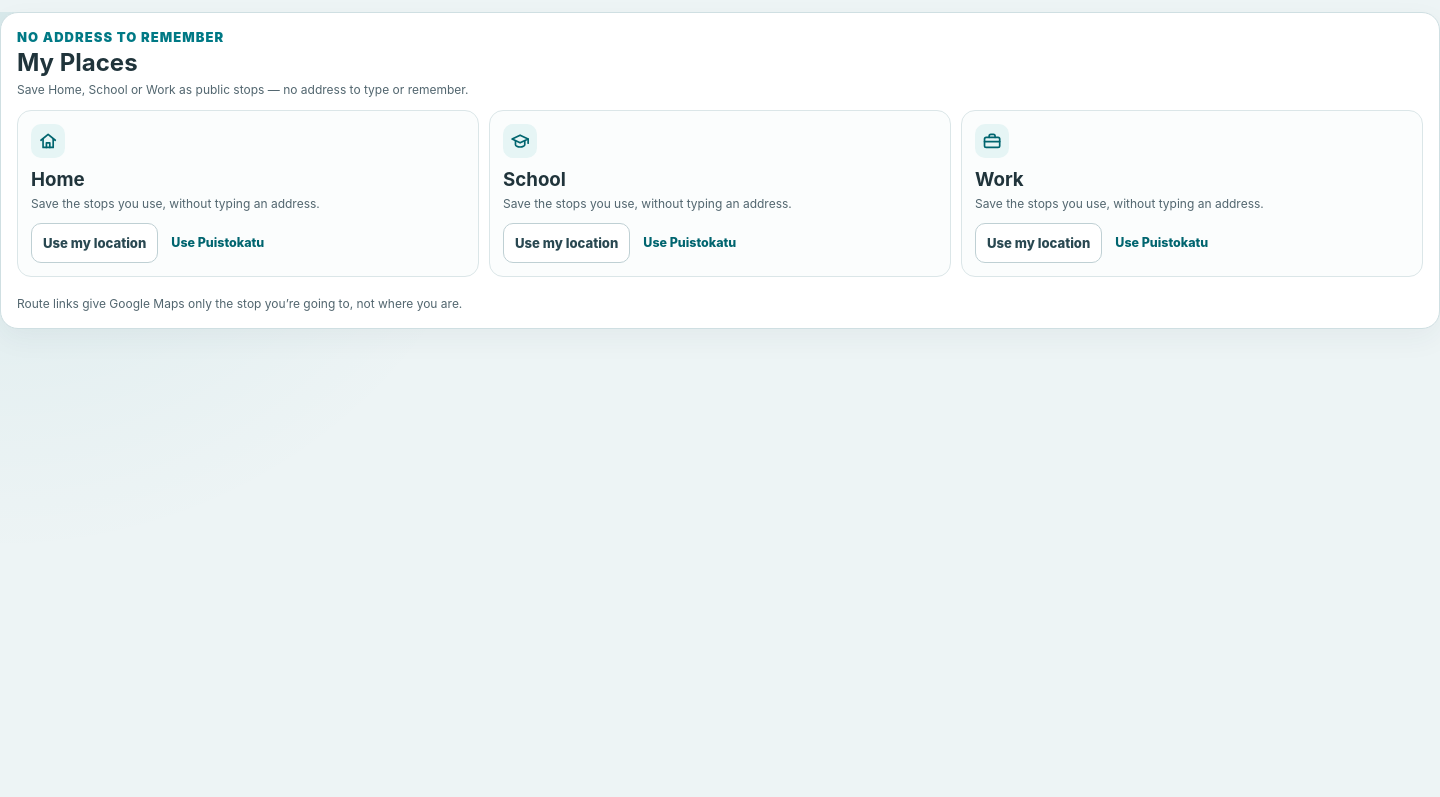
starts each place's setup with its own, unticked confirmation
Click the button with aria-label "Use Puistokatu for Home". click: click(218, 243)
box: [165,223,270,263]
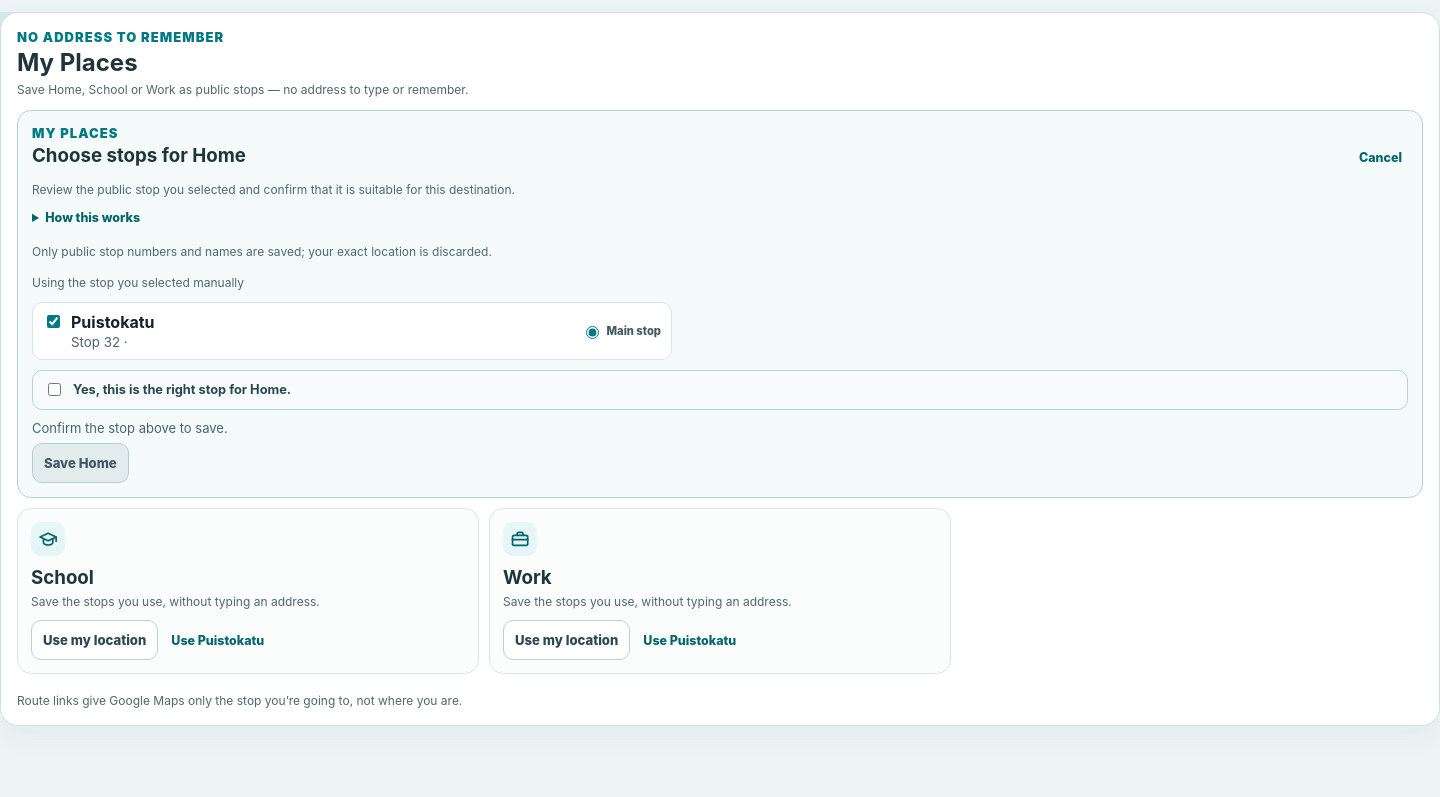
Click the checkbox labelled "Yes, this is the right stop for Home.". click: click(54, 389)
box: [48,383,61,396]
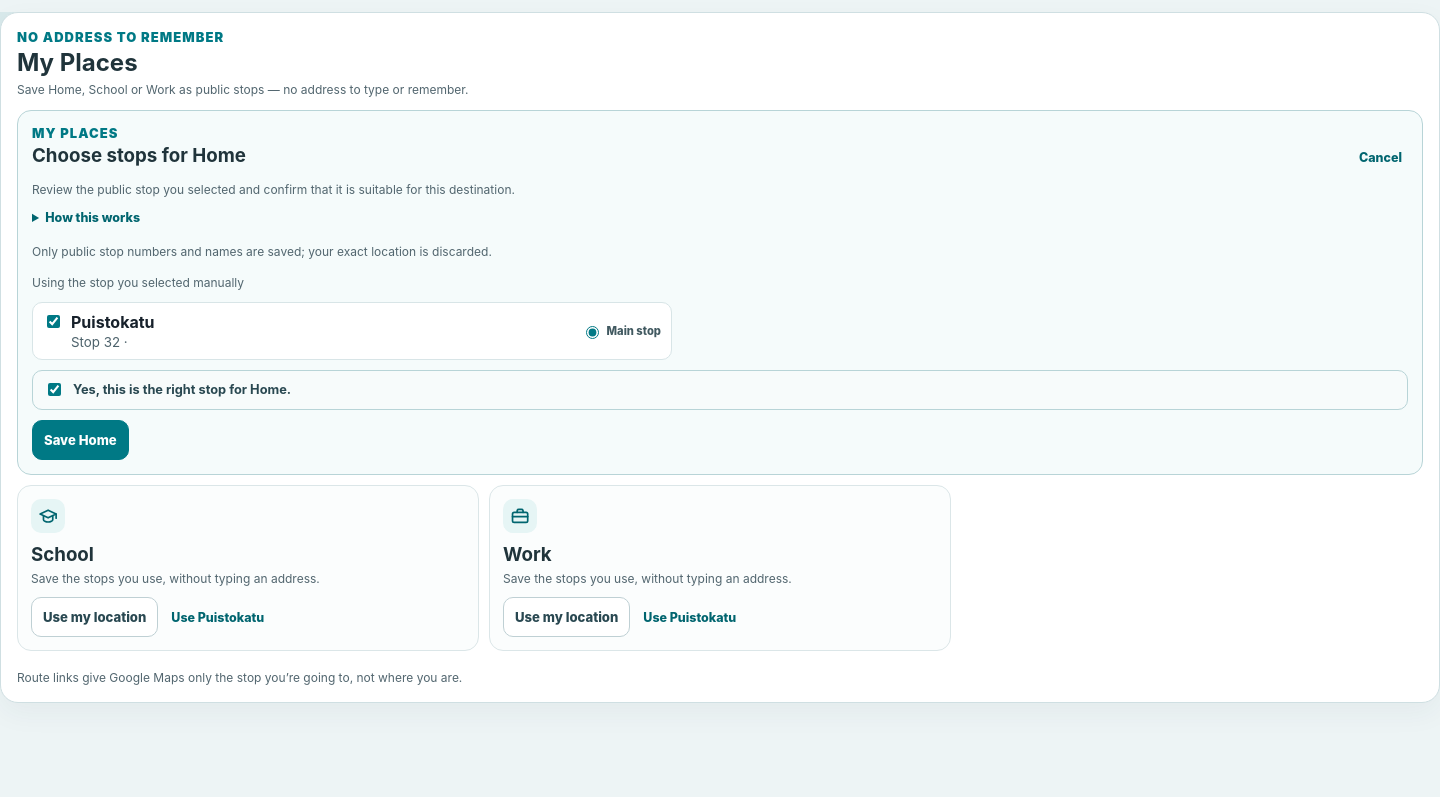
Result: the button "Save Home" is enabled at [32,420,129,460]
Click the button with aria-label "Use Puistokatu for School". click: click(218, 617)
box: [165,597,270,637]
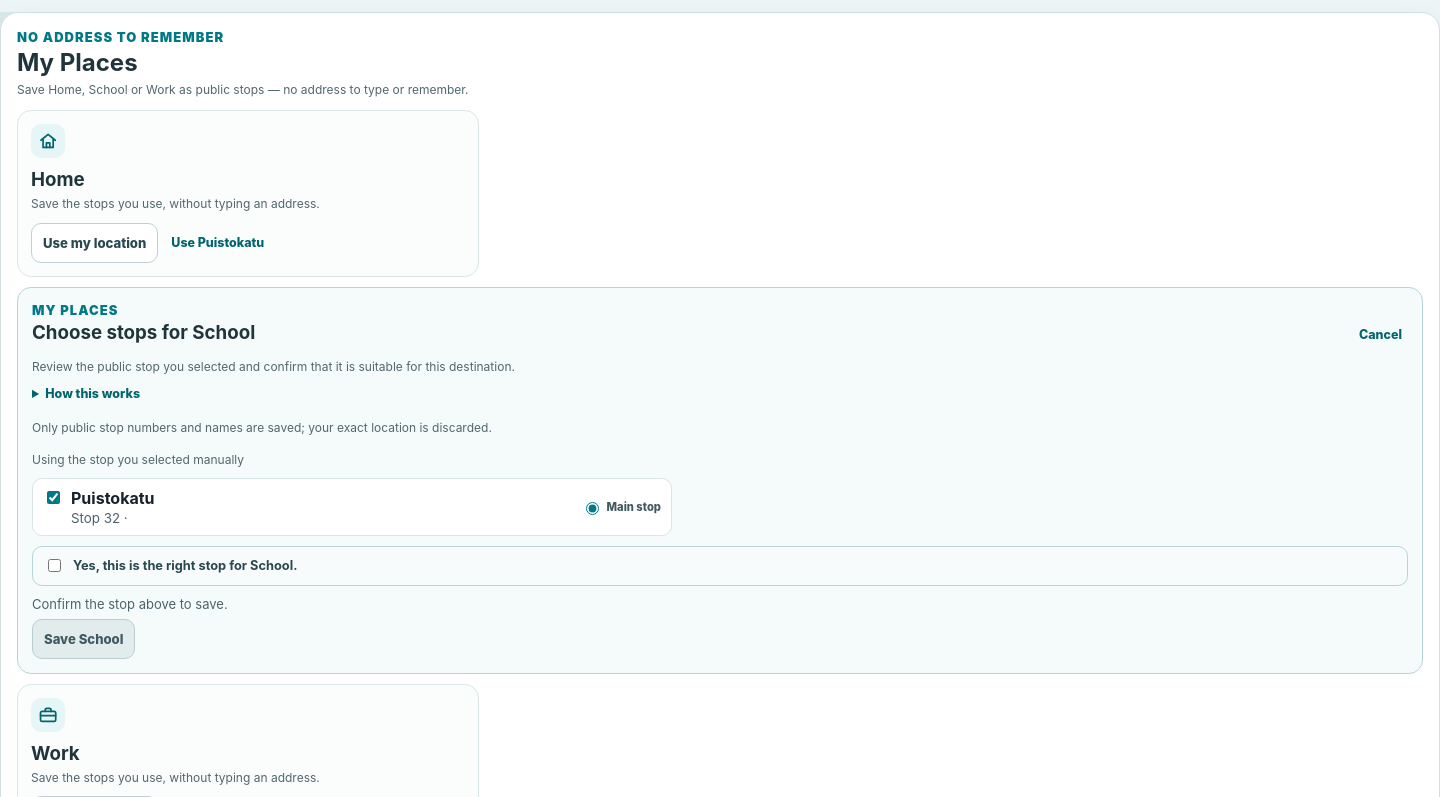
Result: the checkbox labelled "Yes, this is the right stop for School." is not checked at [48,559,61,572]
Result: the button "Save School" is disabled at [32,619,135,659]
